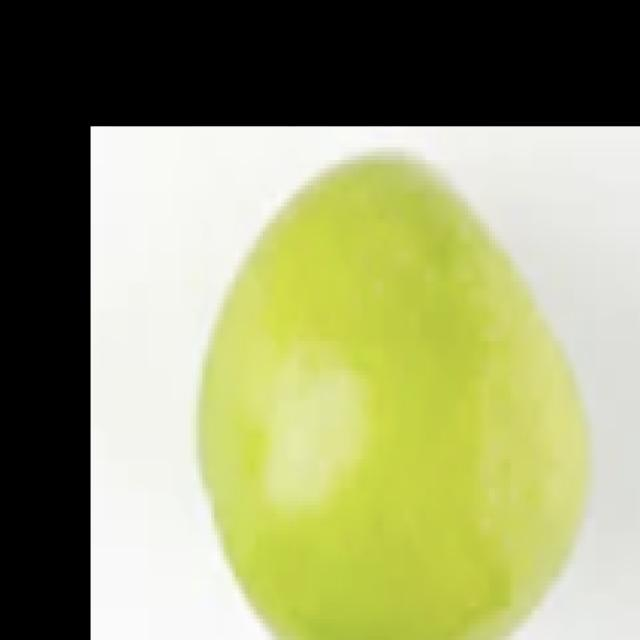Apple: (195, 148, 590, 639)
